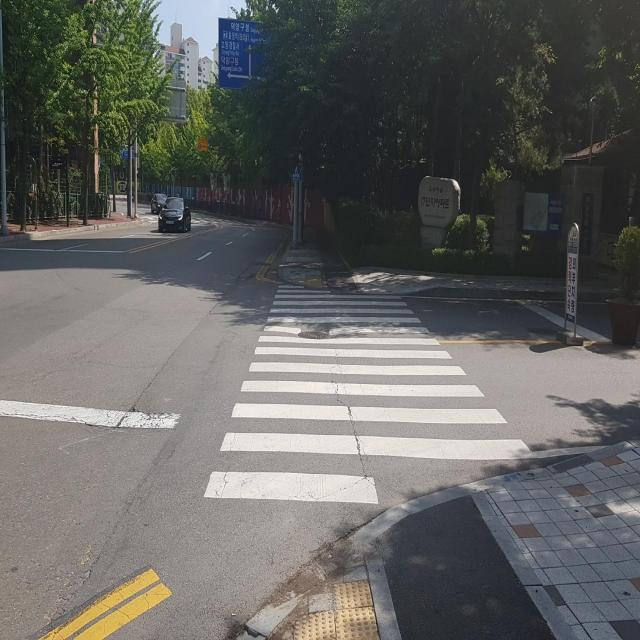횡단보도: (202, 283, 535, 507)
